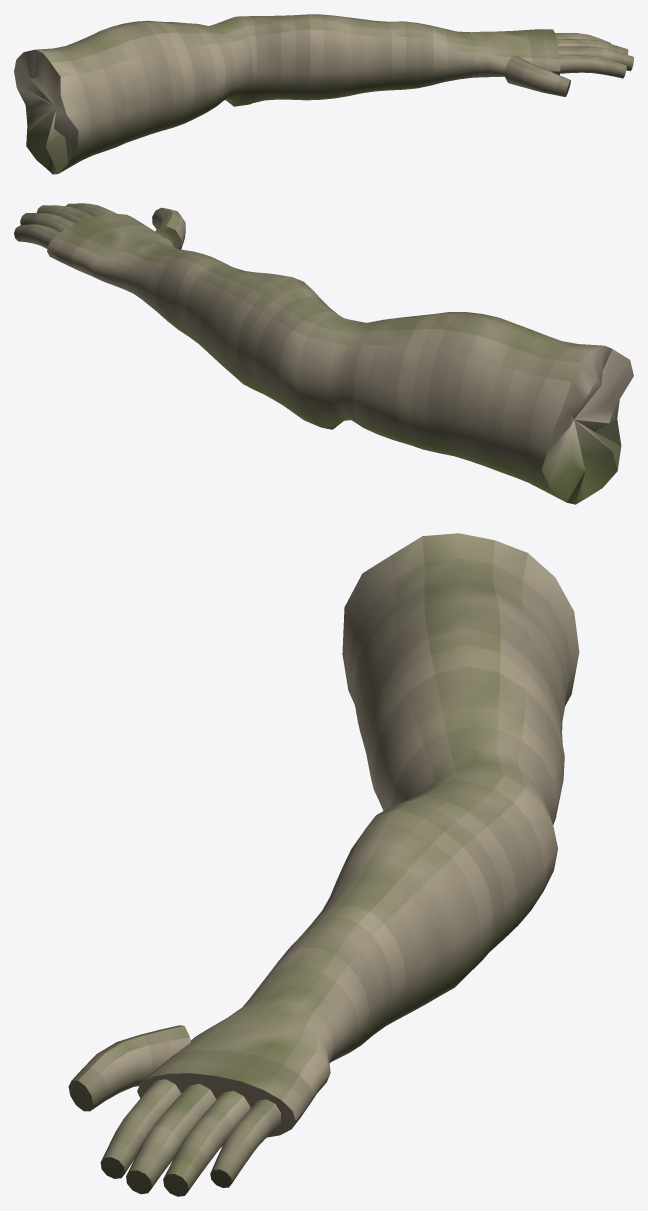
The model's file is harbour_colossus_arm_mid.glb.
3 renders of one model, top to bottom at view 1: azimuth 30°, elevation 25°; view 2: azimuth 150°, elevation 25°; view 3: azimuth 270°, elevation 25°, orthographic. The views are drawn at different scales.
Parts seen in each view (by area): view 1: harbour_colossus_arm_mid; view 2: harbour_colossus_arm_mid; view 3: harbour_colossus_arm_mid.
Part boxes in pixels (x1,y1,x2,y2): harbour_colossus_arm_mid: (14, 14, 633, 174); harbour_colossus_arm_mid: (14, 203, 633, 504); harbour_colossus_arm_mid: (68, 533, 579, 1196).
Size of the model in its own units: 63.64 by 14.22 by 26.96.
